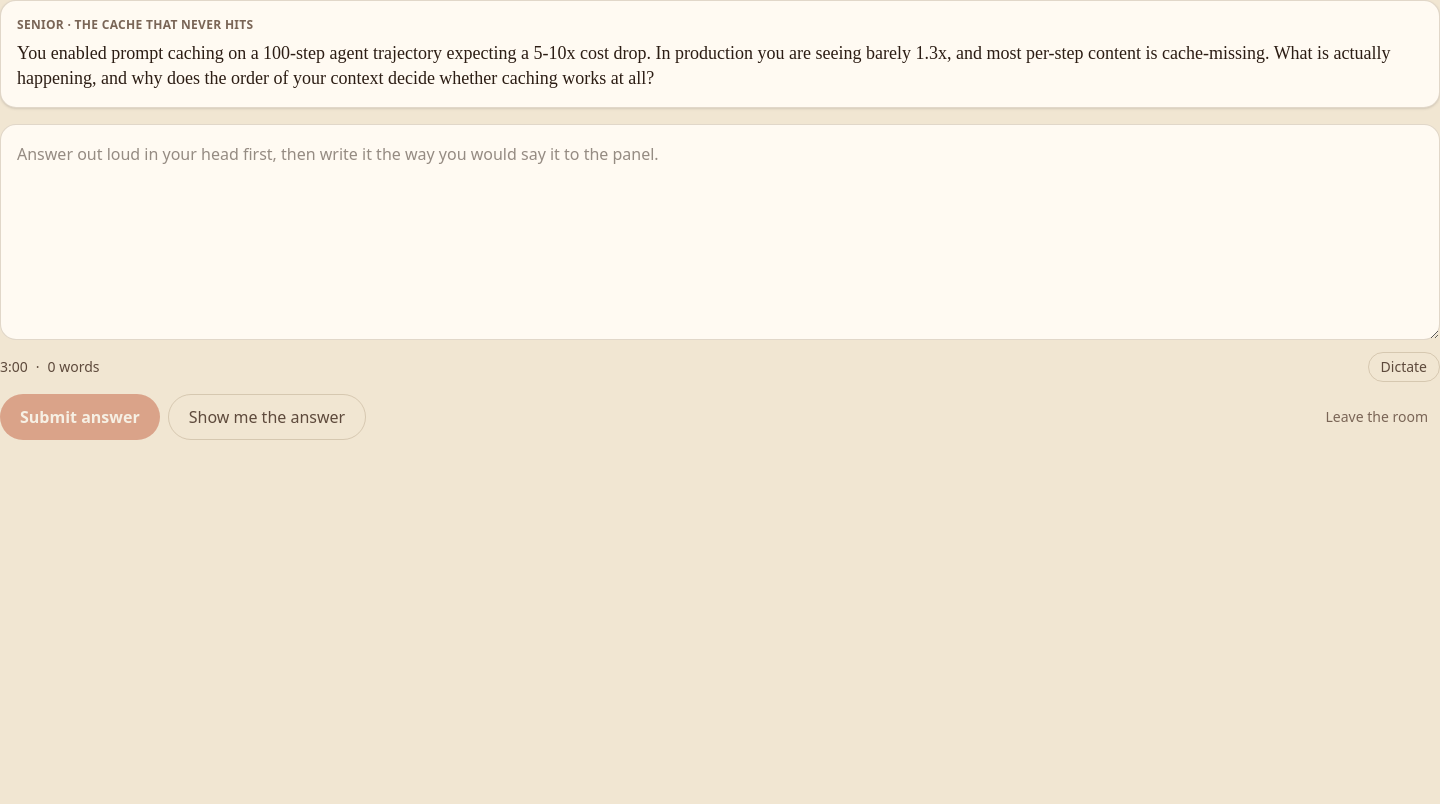
InterviewPanel › lets the candidate overrule a keyword miss and re-scores without reporting again
Click the text box named "your answer": x=720, y=232 left=0, top=124, right=1439, bottom=340
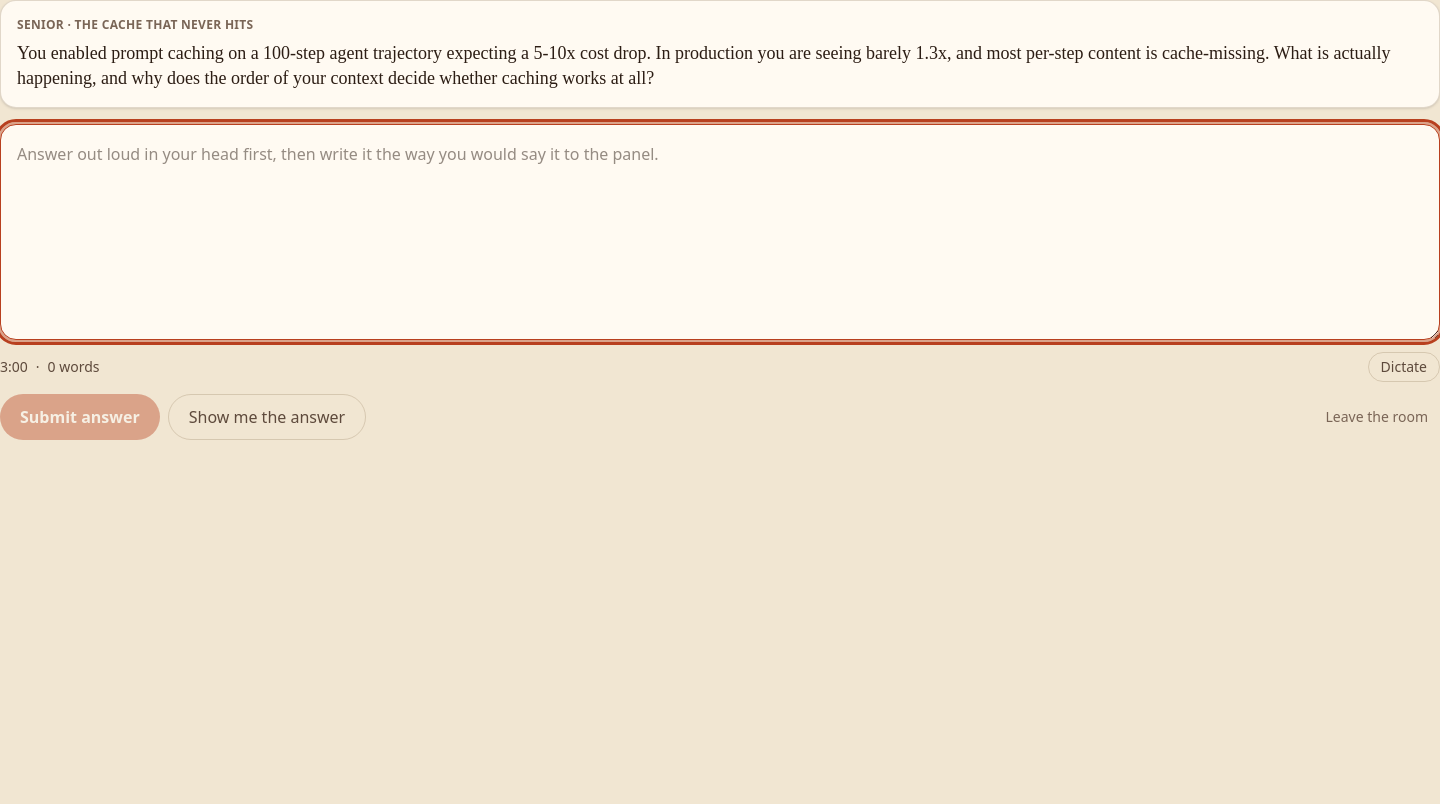
Type keys "It is a prefix match and only the front of the context matters here, which is why ordering is so important for the whole thing."
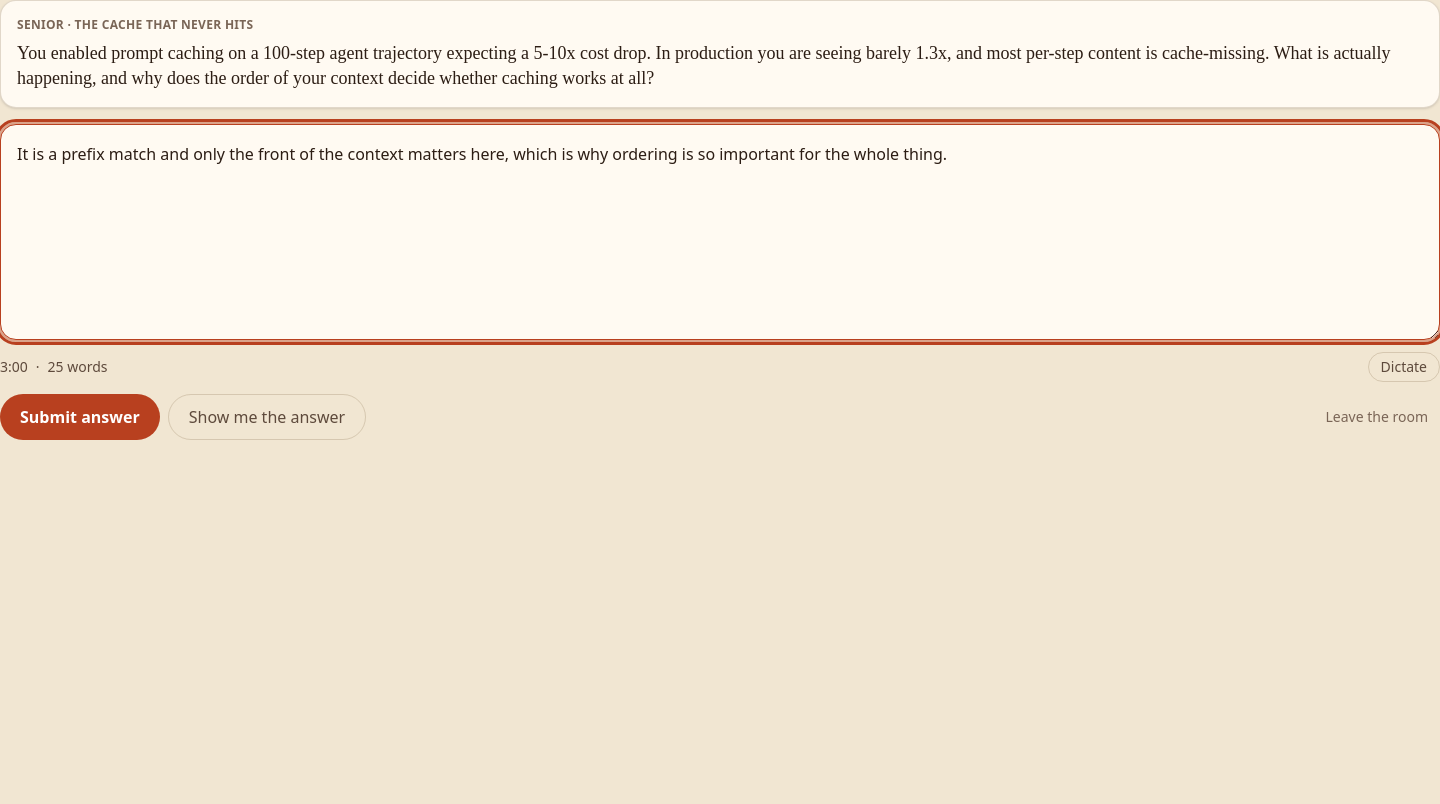
Click the button "Submit answer": x=80, y=416 left=0, top=394, right=160, bottom=440
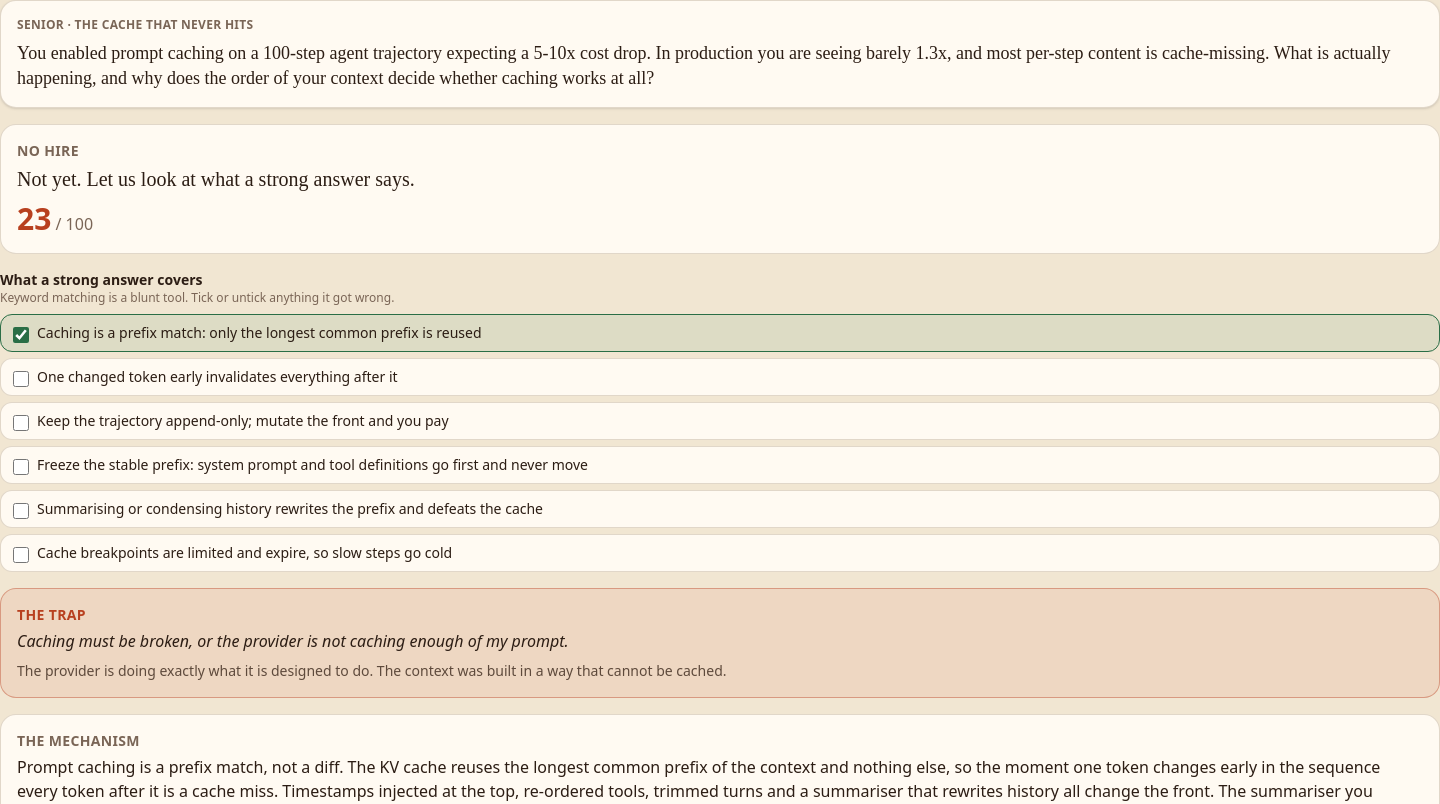
Click the checkbox labelled "One changed token early invalidates everything after it": x=21, y=378 left=13, top=370, right=29, bottom=386
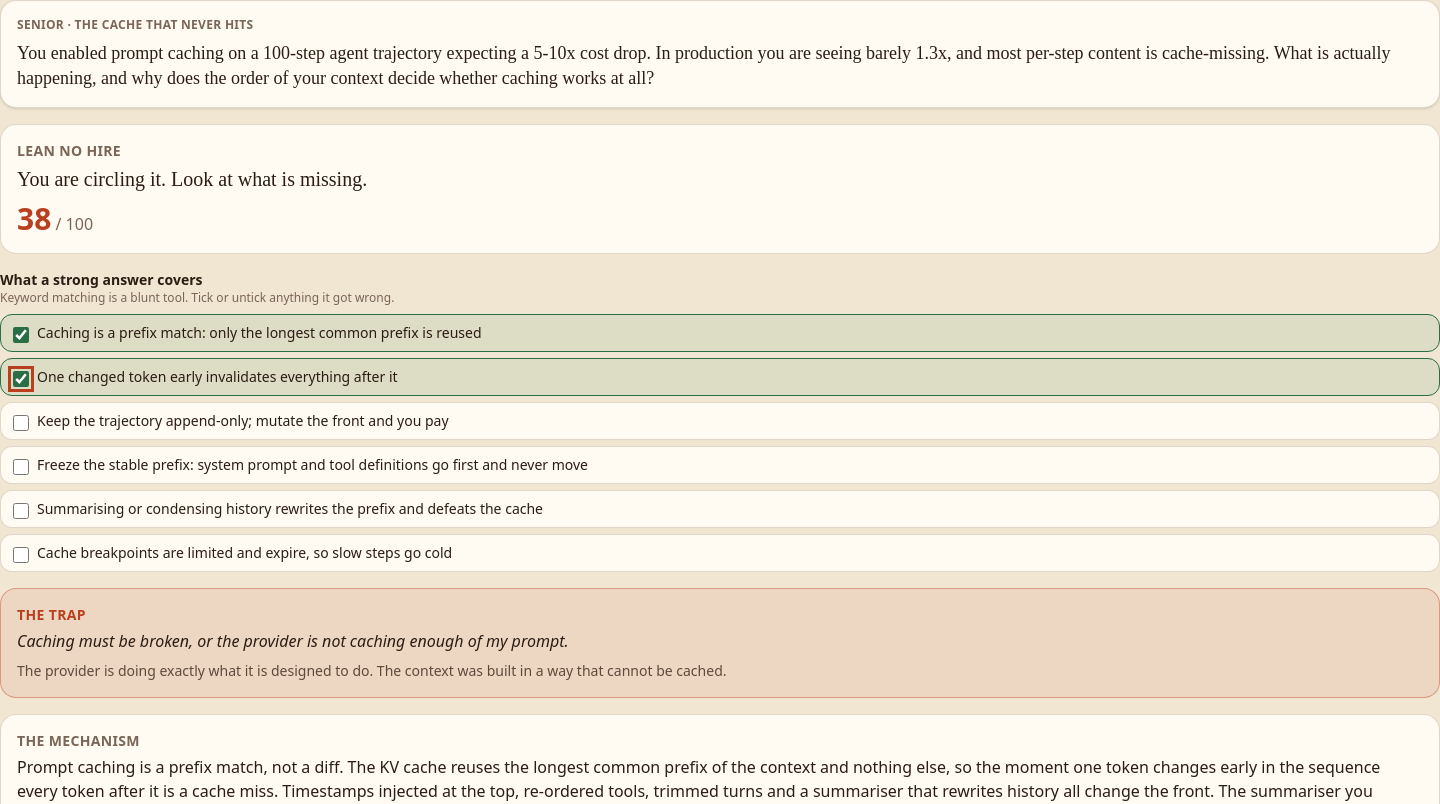
Now the text with test id "score" no longer shows "23"
